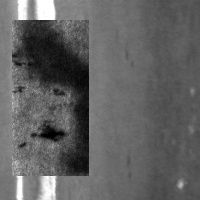inclusion: (123, 152, 135, 180)
patches: (12, 20, 89, 176)
scratches: (33, 1, 60, 199), (14, 1, 28, 199)
